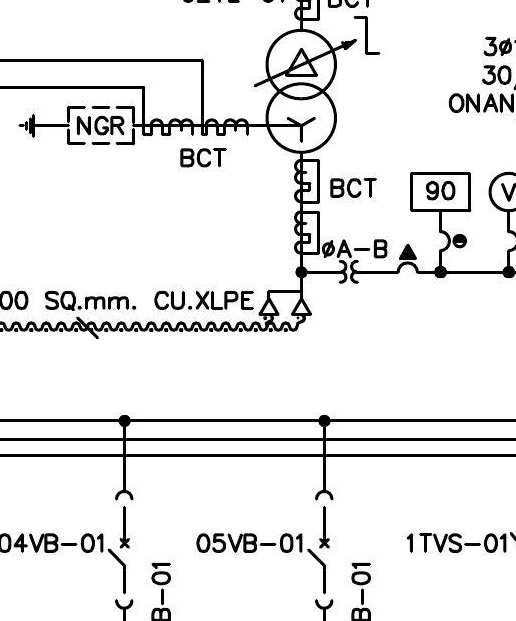11522_tx_dyn1: (265, 28, 338, 155)
22_breaker: (105, 489, 134, 610), (306, 489, 335, 610)
NGR_future: (18, 105, 136, 146)
terminator_double: (258, 289, 312, 316)
